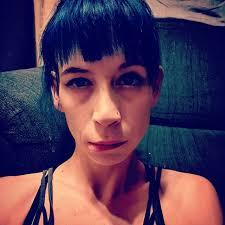strokeEyeMid: (60, 63, 151, 95)
strokeMouthWeak: (83, 134, 130, 155)
